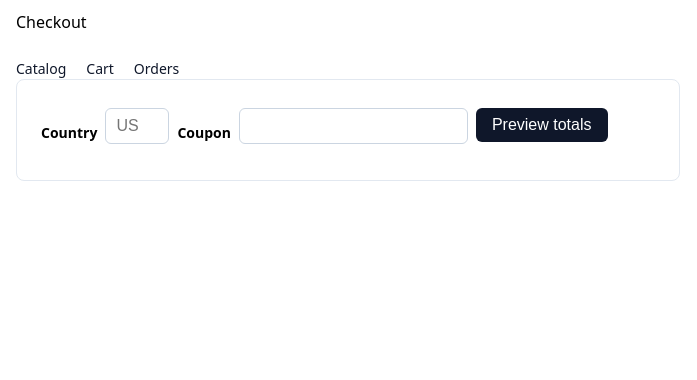
CheckoutPage › places the order with the exact inputs the quote was priced with
In the field labelled "Country": (137, 126) [105,108,169,144], type "DE"
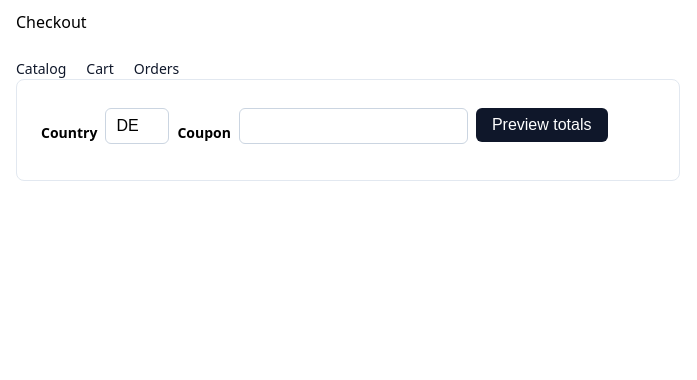
In the field labelled "Coupon": (353, 126) [239,108,468,144], type "SAVE10"
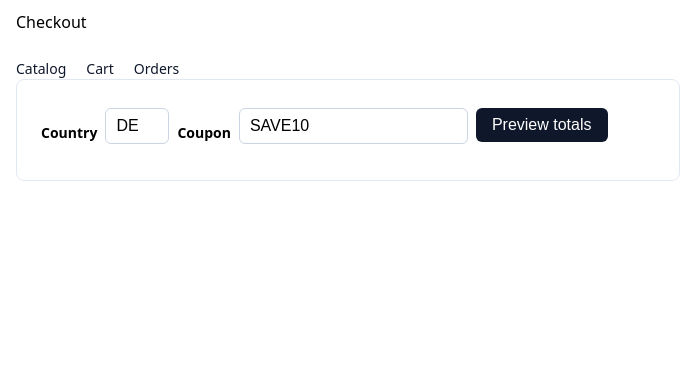
Click the button "Preview totals": (542, 125) [476,108,608,142]
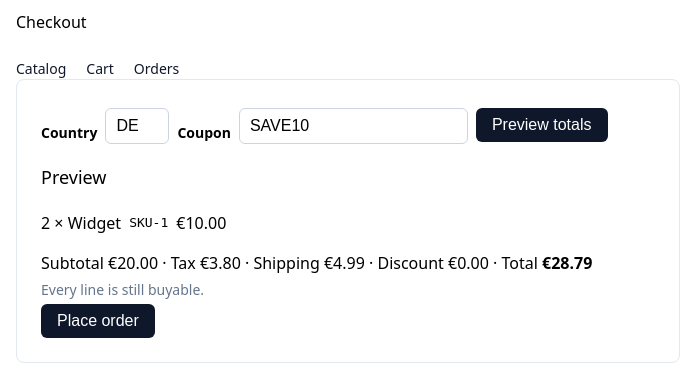
Check: the element with test id "checkout-preview" is shown, box [41,164,655,338]
Click the button "Place order": (98, 321) [41,304,155,338]
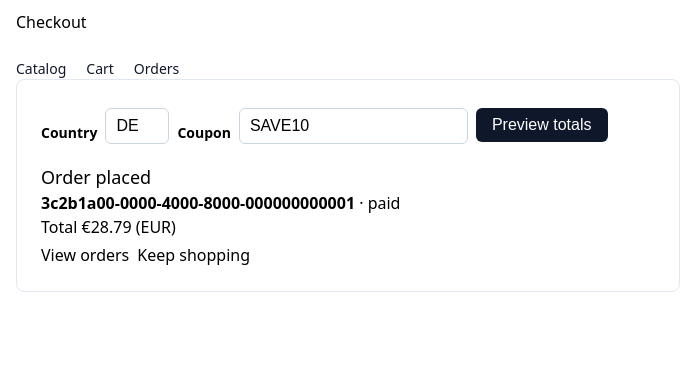
Check: the element with test id "order-created" is shown, box [41,165,400,266]
